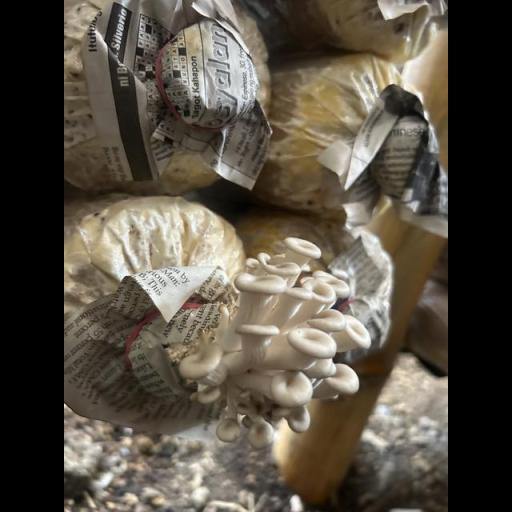White Oyster Mushroom: (170, 224, 392, 457)
